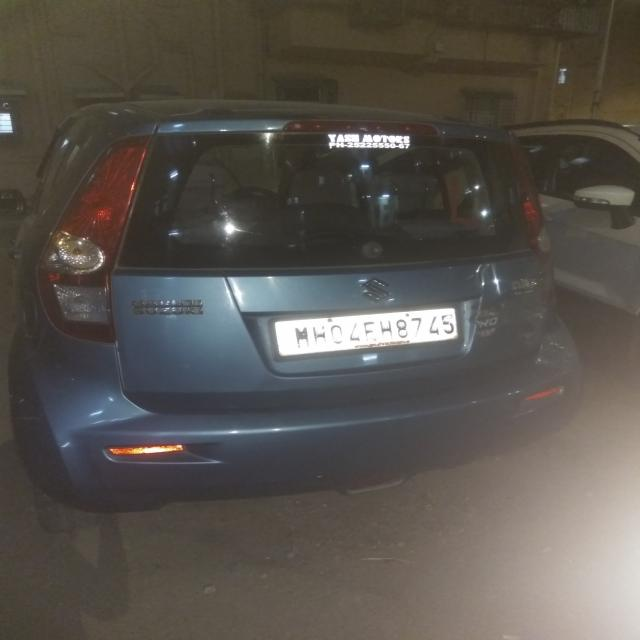Number-Plate: (277, 311, 455, 354)
